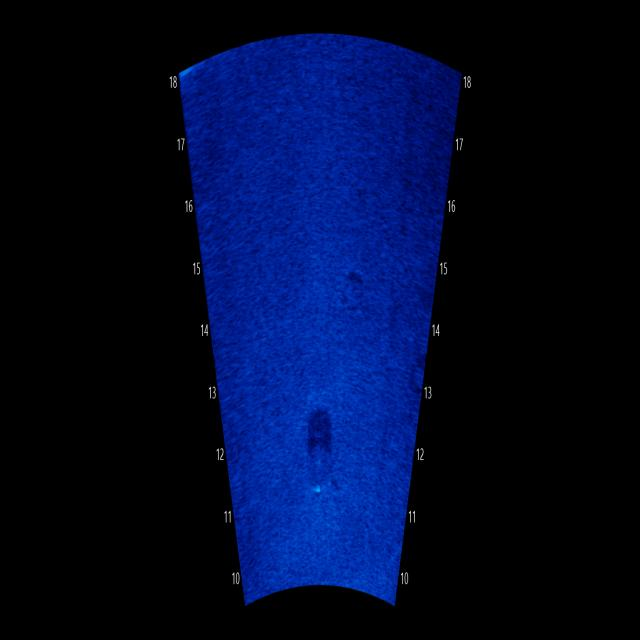circle: (300, 432, 339, 497)
